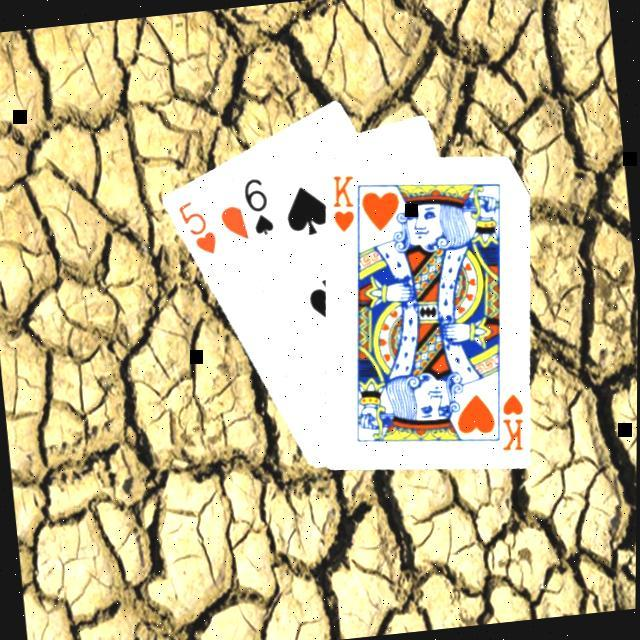5H: (171, 194, 219, 259)
6S: (236, 172, 275, 239)
KH: (492, 387, 529, 454), (324, 169, 360, 235)
